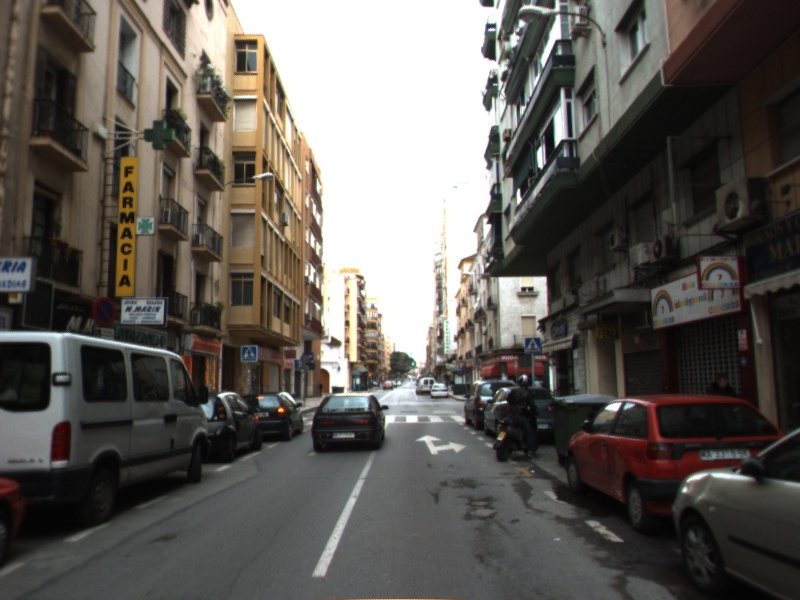STRAIGHT_RIGHT: (414, 433, 468, 456)
